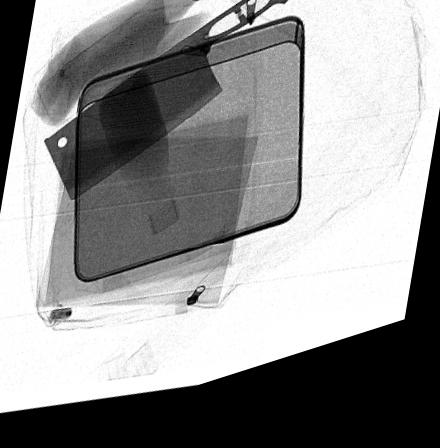Knife: (41, 0, 292, 206)
